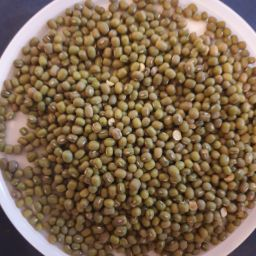Green gram dal(moong): (117, 2, 253, 256), (81, 8, 203, 256), (41, 35, 148, 256), (4, 67, 82, 242)
